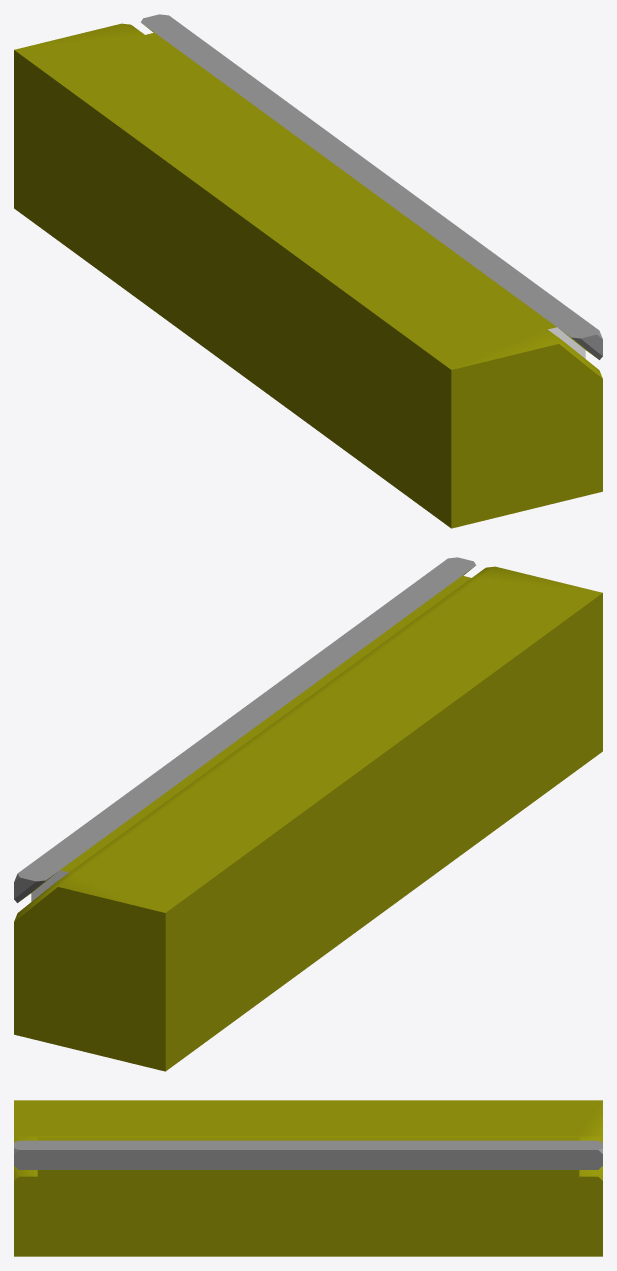
The model's file is Mesh_Levelblock_Cube_Connection.FBX.
The picture shows the model from 3 angles, top to bottom: view 1: azimuth 30°, elevation 25°; view 2: azimuth 150°, elevation 25°; view 3: azimuth 270°, elevation 25°; orthographic projection. The views are drawn at different scales.
Parts seen in each view (by area): view 1: Mesh_BlockConnection1; view 2: Mesh_BlockConnection1; view 3: Mesh_BlockConnection1.
Part boxes in pixels (left/top/right/bottom): Mesh_BlockConnection1: left=14, top=14, right=602, bottom=528; Mesh_BlockConnection1: left=14, top=557, right=602, bottom=1071; Mesh_BlockConnection1: left=14, top=1100, right=602, bottom=1256.
Bounding box in the file's own units: 2 × 2 × 10.
